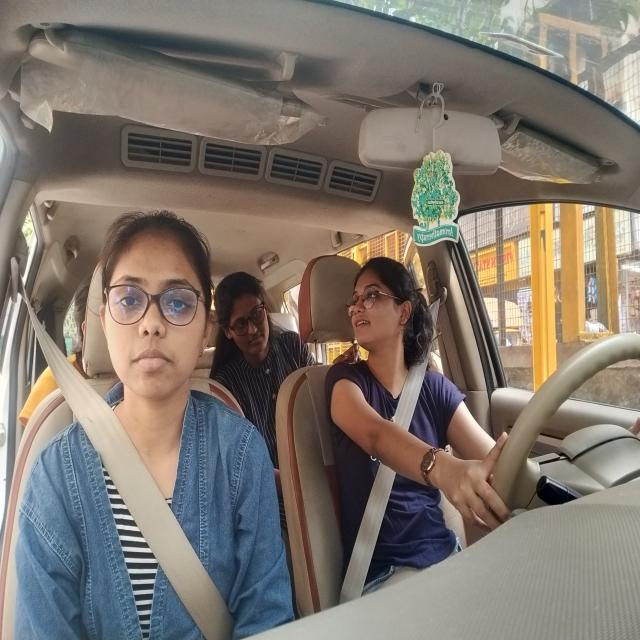LeftRight: (348, 257, 415, 348)
person: (100, 205, 208, 395), (215, 282, 275, 361)
talking: (351, 314, 374, 334)
